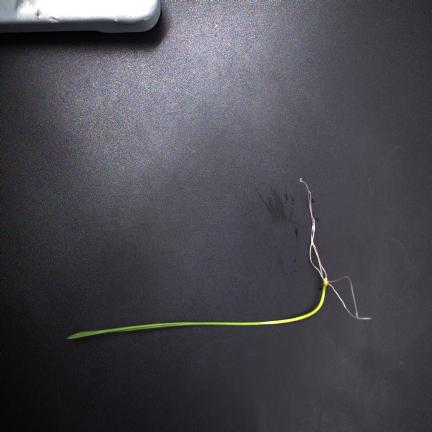leaf1: (328, 283, 371, 320)
leaf2: (328, 275, 359, 317)
leaf3: (311, 219, 323, 276)
leaf4: (309, 192, 324, 280)
leaf5: (300, 178, 328, 279)
root: (68, 321, 260, 339)
stem: (260, 279, 328, 325)
